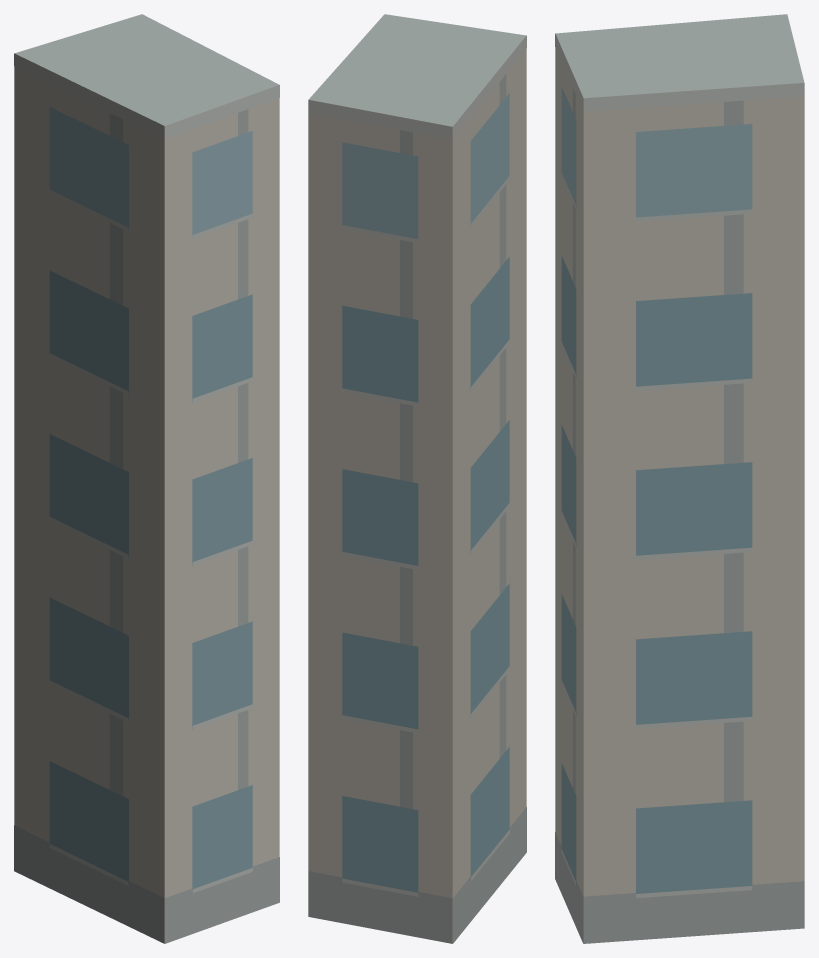
File: survey-upis-32627127.glb
The picture shows the model from 3 angles, left to right: view 1: azimuth 30°, elevation 25°; view 2: azimuth 150°, elevation 25°; view 3: azimuth 270°, elevation 25°; orthographic projection. The views are drawn at different scales.
Visible parts, largest first — view 1: survey-upis-32627127.tmp; view 2: survey-upis-32627127.tmp; view 3: survey-upis-32627127.tmp.
Part boxes in pixels (x1=…): survey-upis-32627127.tmp: x1=14, y1=14, x2=279, y2=943; survey-upis-32627127.tmp: x1=308, y1=14, x2=526, y2=943; survey-upis-32627127.tmp: x1=555, y1=14, x2=804, y2=943.
Bounding box in the file's own units: 3.27 × 15.25 × 4.08.
